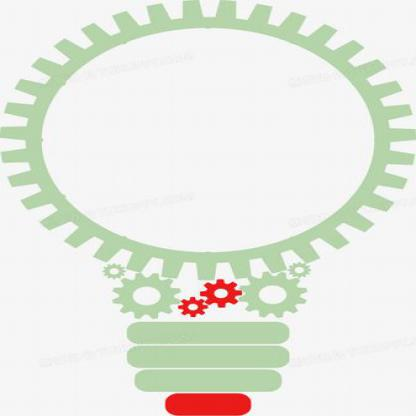FOD: (7, 0, 412, 279), (234, 271, 310, 318), (112, 273, 181, 319)
